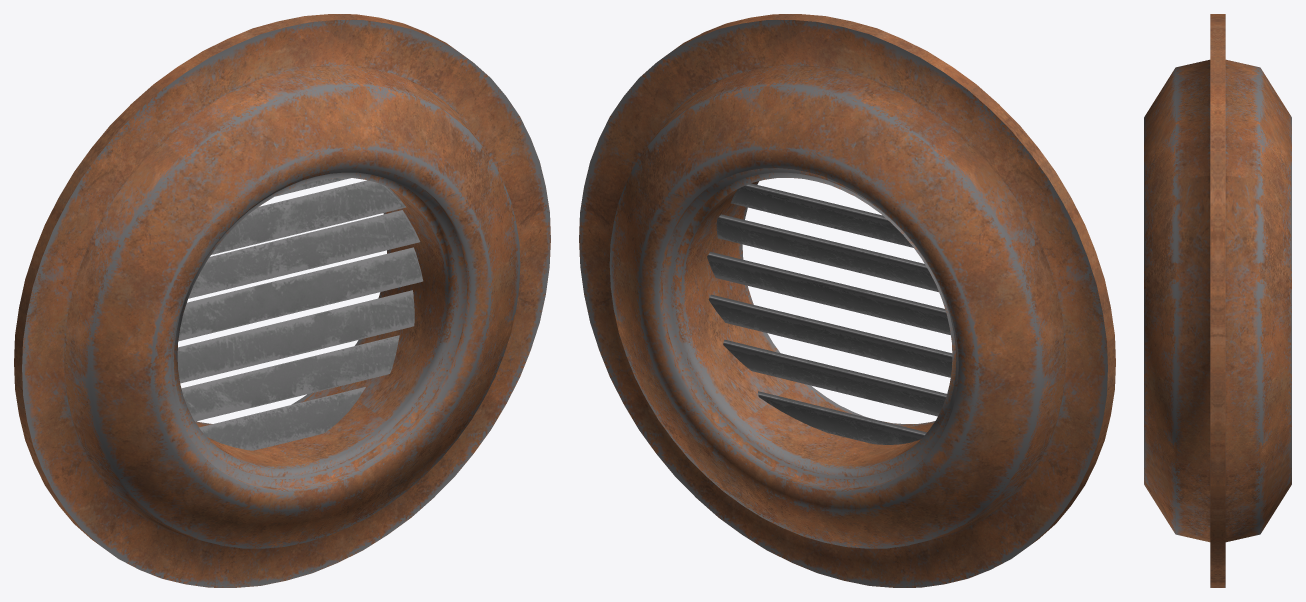
Rendered from cs1-wallfanhatch.glb.
3 views of the same model, side by side, from view 1: azimuth 30°, elevation 25°; view 2: azimuth 150°, elevation 25°; view 3: azimuth 270°, elevation 25° (orthographic). The views are drawn at different scales.
Visible parts, largest first — view 1: SM_CS1_WallFanHatch_01_c1_LOD0; view 2: SM_CS1_WallFanHatch_01_c1_LOD0; view 3: SM_CS1_WallFanHatch_01_c1_LOD0.
Boxes of the visible parts, x1,y1,x2,y2 form: SM_CS1_WallFanHatch_01_c1_LOD0: (14, 14, 550, 587); SM_CS1_WallFanHatch_01_c1_LOD0: (579, 14, 1115, 587); SM_CS1_WallFanHatch_01_c1_LOD0: (1144, 14, 1291, 587).
Bounding box in the file's own units: 1.16 × 1.16 × 0.2982.
Materials: 1 (1 with a texture image).
